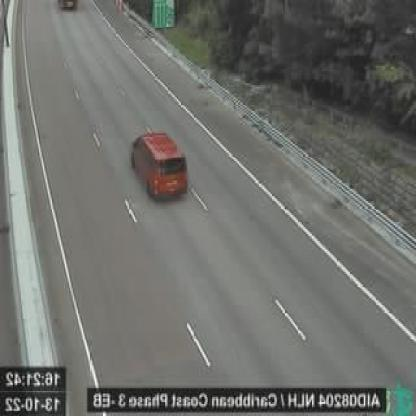Car: (130, 132, 189, 201)
